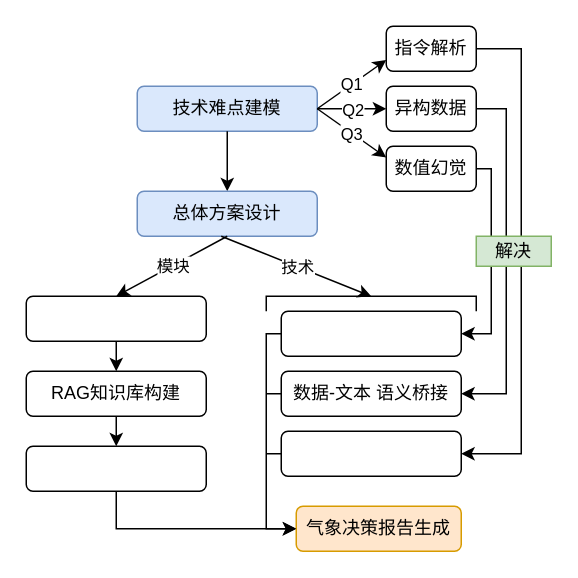
Image size: 578x578. Some labels were removed from this diagram. Each missing label, with the centre of its shape:
"ReAct主控逻辑" goes at point (115, 468).
"代码生成&沙箱执行" goes at point (370, 333).
"意图识别&参数补全" goes at point (370, 453).
"气象API工具封装" goes at point (115, 318).
